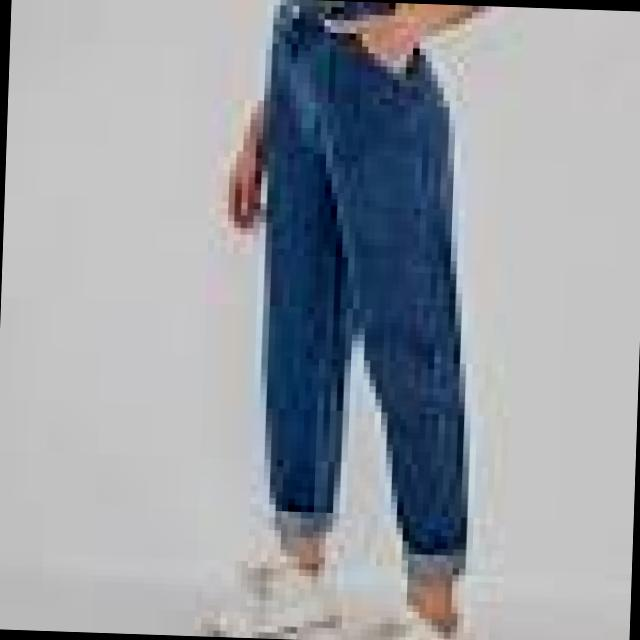pants: (241, 4, 484, 568)
